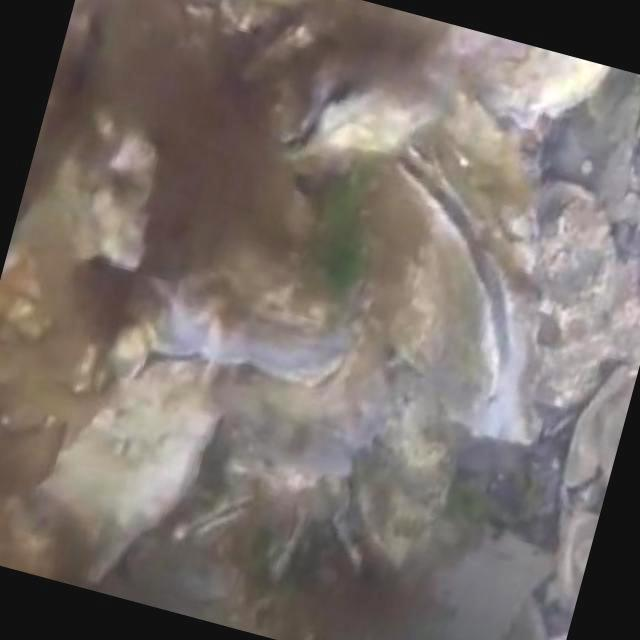Oyster-Closed: (33, 358, 227, 582)
Oyster-Open: (332, 138, 516, 420), (131, 177, 355, 380), (241, 31, 428, 168), (172, 492, 255, 546), (326, 504, 380, 578), (273, 492, 307, 585)
